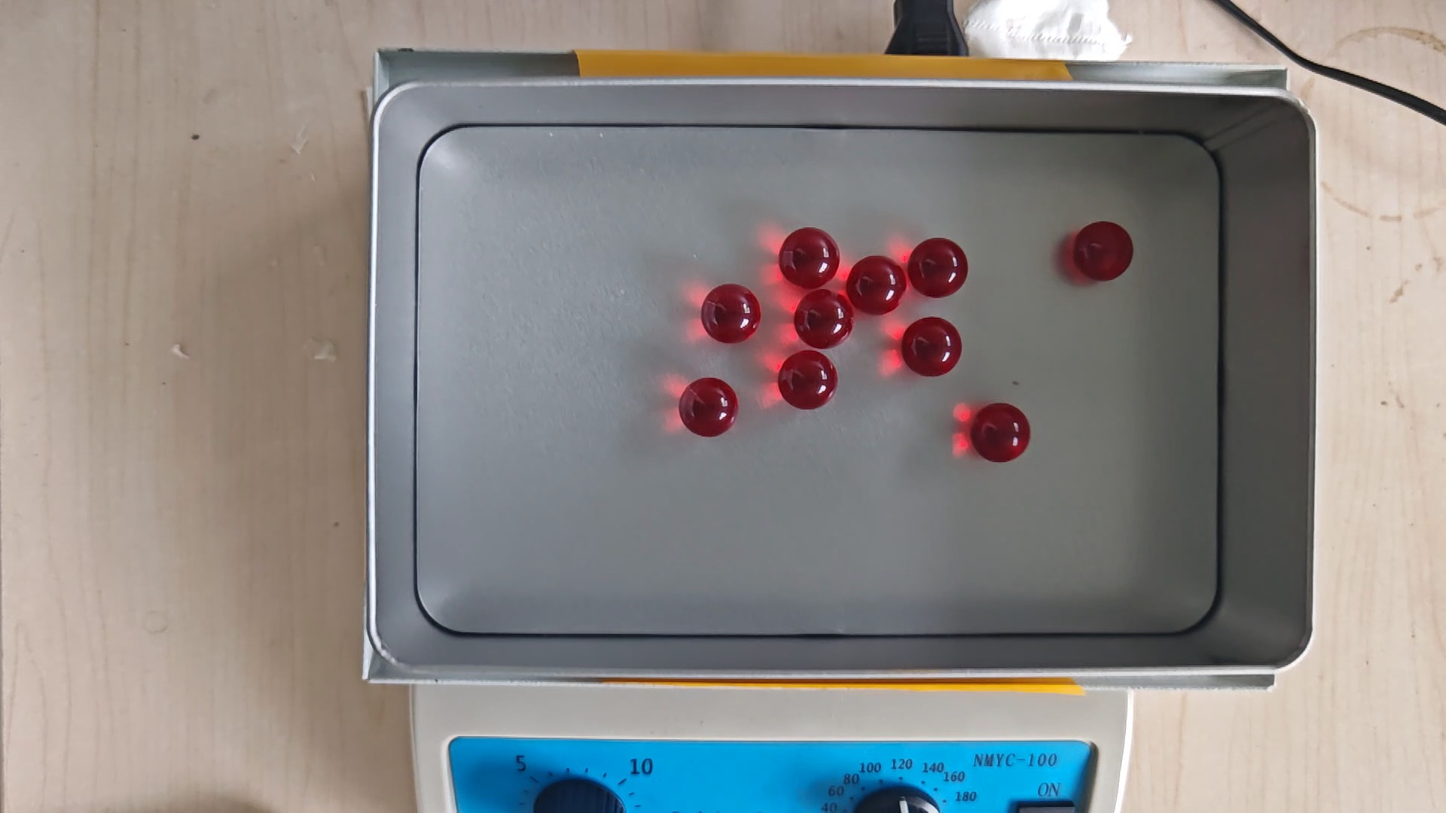ball: (701, 283, 761, 345), (779, 227, 839, 289), (909, 236, 968, 299), (778, 350, 838, 411), (679, 376, 739, 437), (902, 316, 961, 378), (1074, 221, 1133, 283), (971, 403, 1030, 464), (848, 254, 906, 315), (795, 290, 852, 348)
container: (415, 127, 1220, 635)
